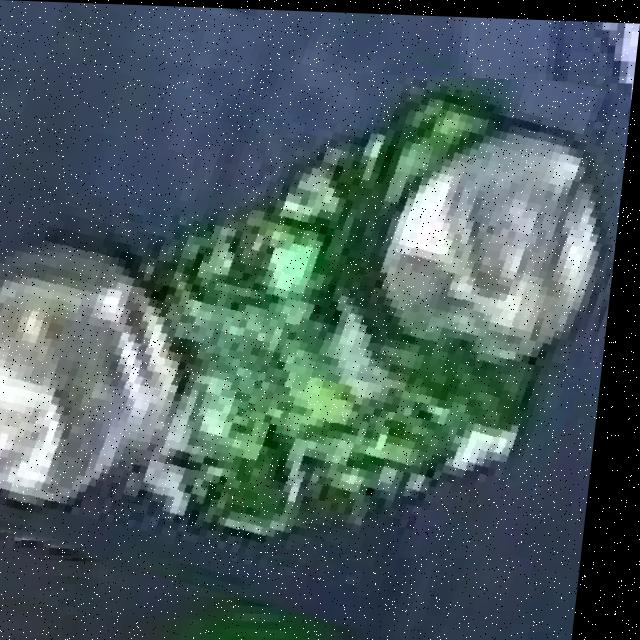can: (0, 73, 625, 559)
